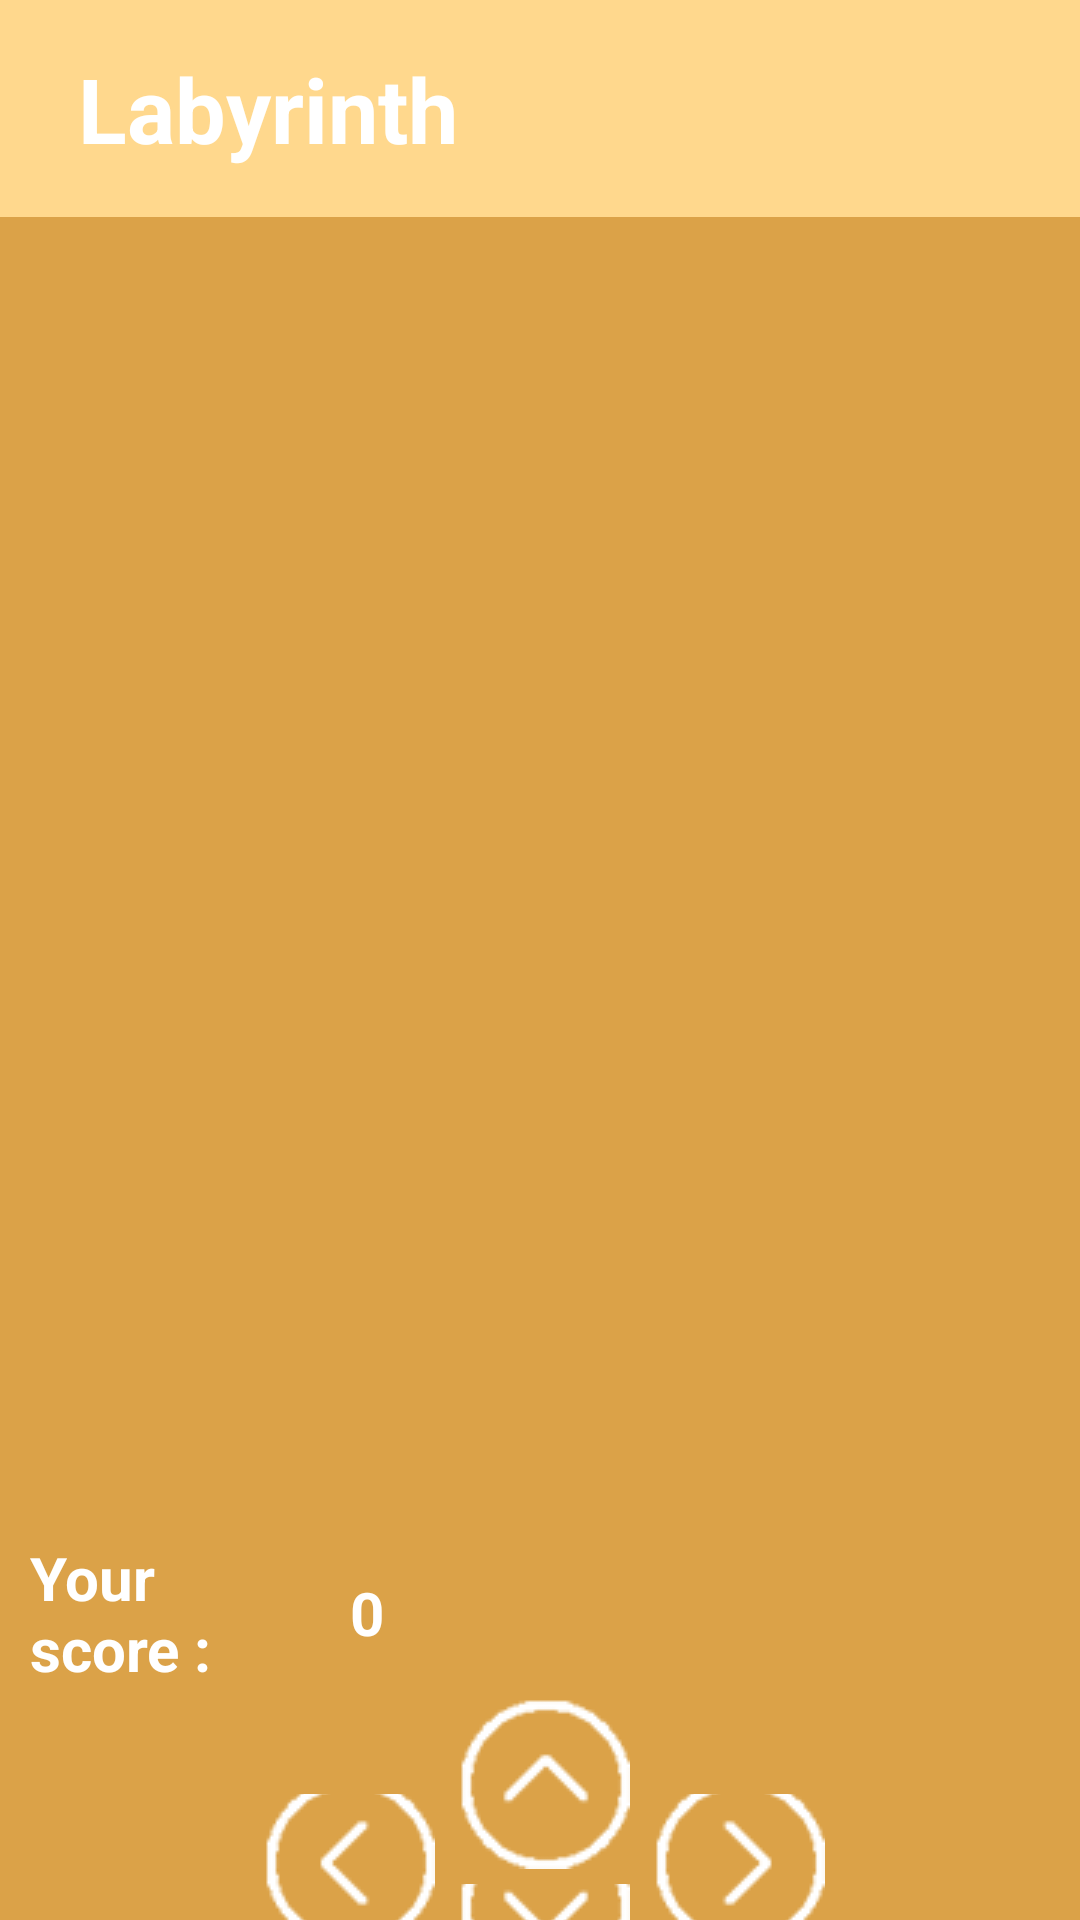

Screen size 1080w x 1920h. Icon name, then its box in pixels as detection(x1, y1, x2, y2):
Top arrow of button: detection(461, 1700, 630, 1869)
